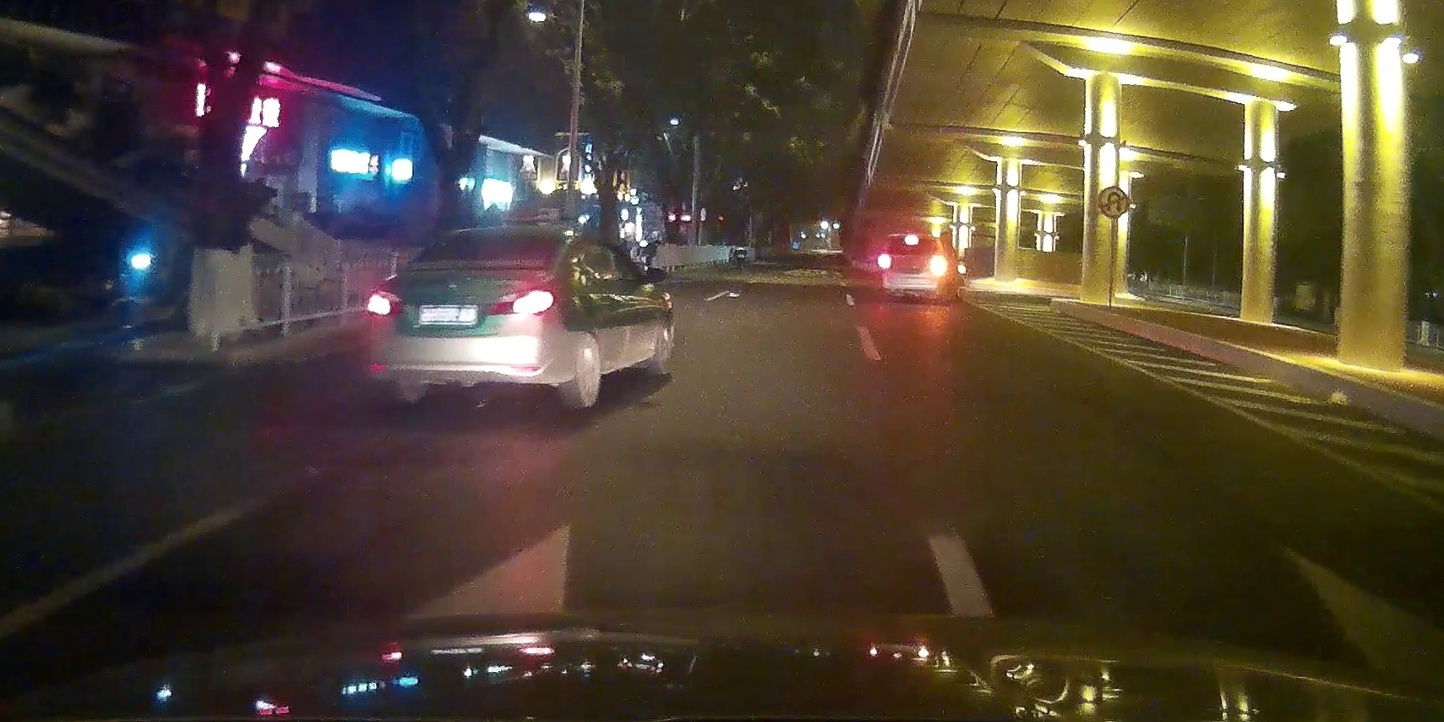L_light: (366, 290, 402, 317), (879, 254, 891, 269)
R_light: (487, 277, 557, 316), (929, 255, 946, 277)
T_light: (486, 234, 512, 241), (905, 235, 918, 245)
night-no: (367, 223, 563, 408)
night-right: (879, 232, 947, 302)
